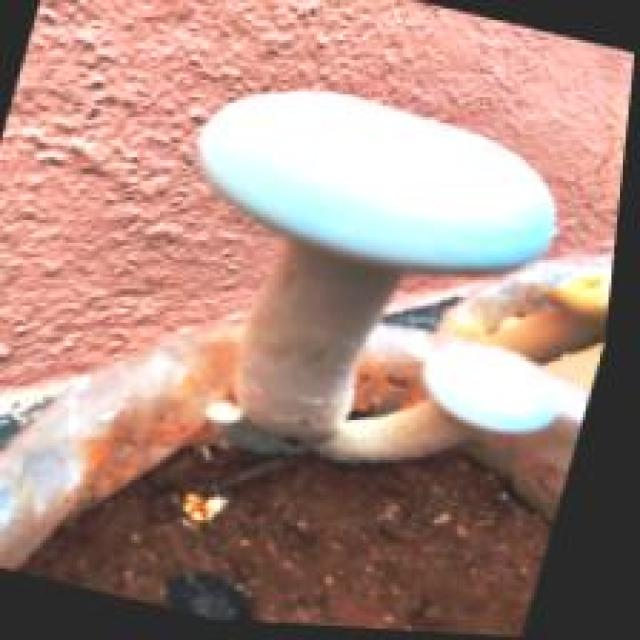death-cap: (197, 86, 560, 274)
